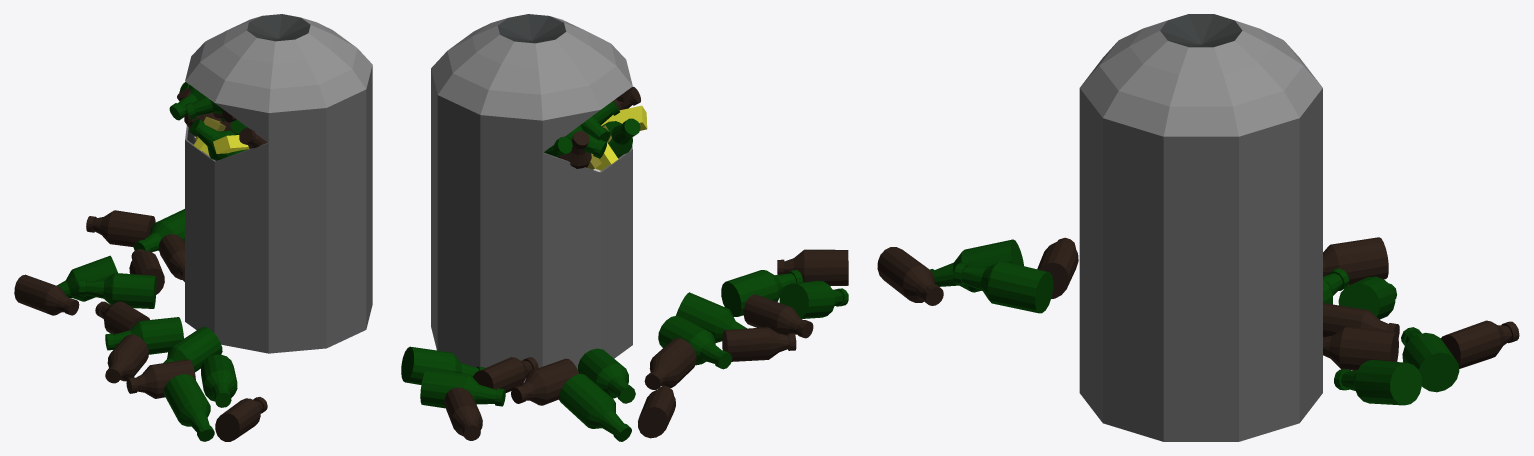
File: Kosz_popielnik2_pelny.fbx
The picture shows the model from 3 angles, left to right: view 1: azimuth 30°, elevation 25°; view 2: azimuth 150°, elevation 25°; view 3: azimuth 270°, elevation 25°; orthographic projection. The views are drawn at different scales.
Parts seen in each view (by area): view 1: kosz_pelny; view 2: kosz_pelny; view 3: kosz_pelny.
Boxes of the visible parts, x1,y1,x2,y2 form: kosz_pelny: (14,14,372,441); kosz_pelny: (401,14,848,441); kosz_pelny: (877,14,1519,441).
Bounding box in the file's own units: 175 × 112 × 115.
